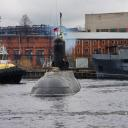submarine: (33, 13, 83, 97)
